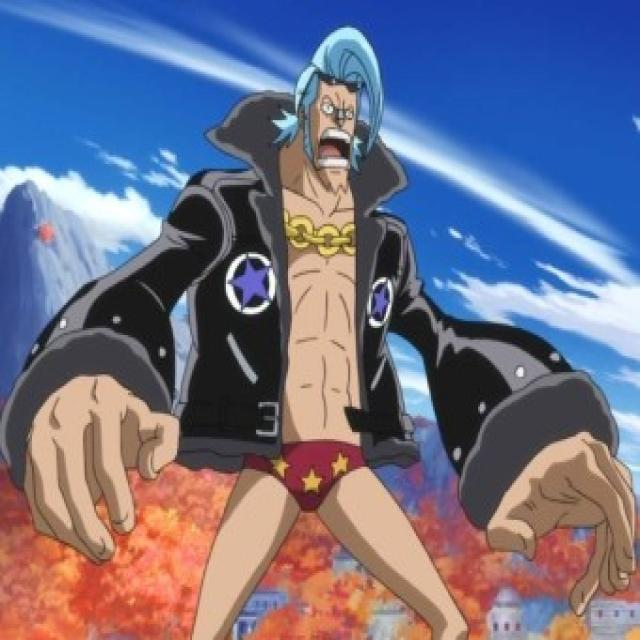Franky: (272, 6, 388, 204)
